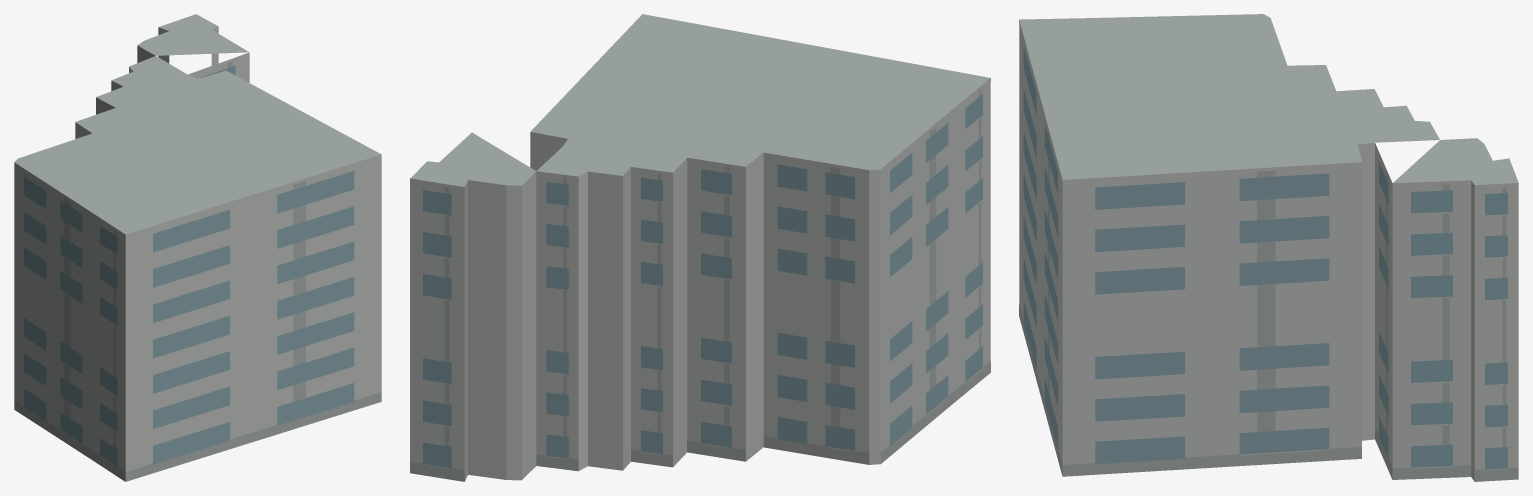
Rendered from survey-upis-32629284.glb.
3 renders of one model, left to right at view 1: azimuth 30°, elevation 25°; view 2: azimuth 150°, elevation 25°; view 3: azimuth 270°, elevation 25°, orthographic. The views are drawn at different scales.
Parts seen in each view (by area): view 1: survey-upis-32629284.tmp; view 2: survey-upis-32629284.tmp; view 3: survey-upis-32629284.tmp.
Boxes of the visible parts, x1=… form: survey-upis-32629284.tmp: x1=14, y1=14, x2=381, y2=481; survey-upis-32629284.tmp: x1=410, y1=14, x2=990, y2=481; survey-upis-32629284.tmp: x1=1019, y1=14, x2=1518, y2=481.
Bounding box in the file's own units: 26 × 21 × 32.06.
